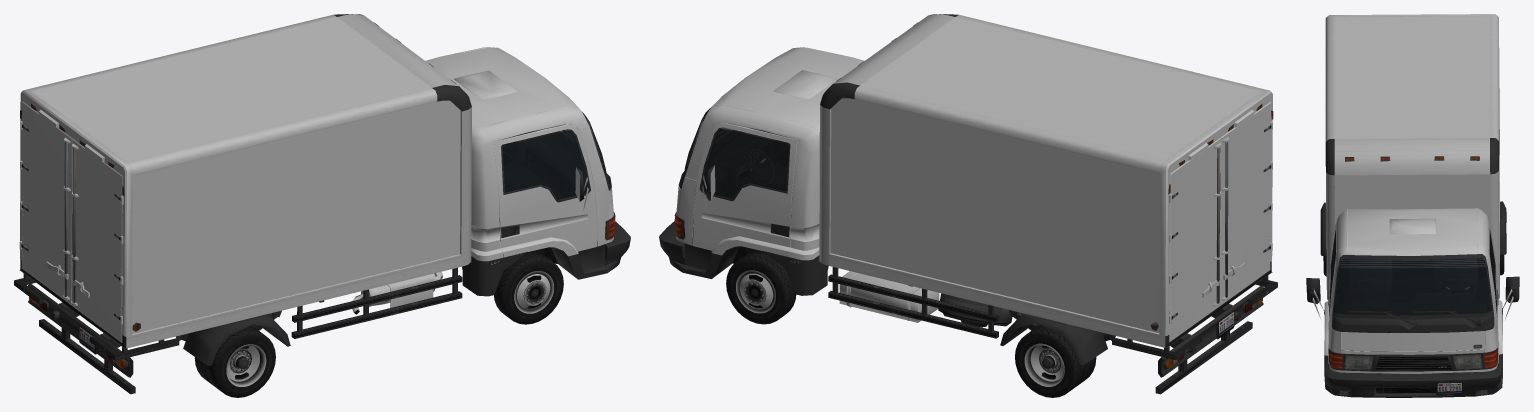
The model's file is generico-caminhao.glb.
3 views of the same model, side by side, from view 1: azimuth 30°, elevation 25°; view 2: azimuth 150°, elevation 25°; view 3: azimuth 270°, elevation 25° (orthographic). The views are drawn at different scales.
Parts seen in each view (by area): view 1: LCT300095_Body_lct3000_Bodymat_0, LCT300095_Bottom_UCB_BOTTOM_0, LCT300095_Reardoor_Left_lct3000_Bodymat_0, LCT300095_Reardoor_Right_lct3000_Bodymat_0, LCT300095_Glass_Passenger_UCB_Lights_and_Glass_Transperent_0, LCT300095_Interior_UCB_Interiors_2_0, LCT300095_WheelStock_FR_RB1c_Tire_1k_0, LCT300095_WheelStock_RR_RB1c_Tire_1k_0, LCT300095_Bumper_rear_UCB_BOTTOM_0, LCT300095_Reardoor_Left_Inner_UCB_BOTTOM_0, LCT300095_Reardoor_Right_Inner_UCB_BOTTOM_0, LCT300095_Bumper_front_UCB_BOTTOM_0; view 2: LCT300095_Body_lct3000_Bodymat_0, LCT300095_Bottom_UCB_BOTTOM_0, LCT300095_Reardoor_Right_lct3000_Bodymat_0, LCT300095_Reardoor_Left_lct3000_Bodymat_0, LCT300095_Glass_Driver_UCB_Lights_and_Glass_Transperent_0, LCT300095_WheelStock_FL_RB1c_Tire_1k_0, LCT300095_WheelStock_RL_RB1c_Tire_1k_0, LCT300095_Interior_UCB_Interiors_2_0, LCT300095_Bumper_rear_UCB_BOTTOM_0, LCT300095_Reardoor_Right_Inner_UCB_BOTTOM_0, LCT300095_Reardoor_Left_Inner_UCB_BOTTOM_0, LCT300095_Bumper_front_UCB_BOTTOM_0; view 3: LCT300095_Body_lct3000_Bodymat_0, LCT300095_Bottom_UCB_BOTTOM_0, LCT300095_Windshield_UCB_Lights_and_Glass_Transperent_0, LCT300095_Interior_UCB_Interiors_2_0, LCT300095_Bumper_front_UCB_BOTTOM_0, LCT300095_Headlights_Glass_UCB_Lights_and_Glass_Transperent_, LCT300095_Headlights_UCB_Lights_and_Glass_0, LCT300095_Numberplate_front_Numberplates_Misk_U_0, LCT300095_Glass_Driver_UCB_Lights_and_Glass_Transperent_0, LCT300095_Glass_Passenger_UCB_Lights_and_Glass_Transperent_0.
Boxes of the visible parts, x1=… form: LCT300095_Body_lct3000_Bodymat_0: x1=19, y1=17, x2=613, y2=336; LCT300095_Bottom_UCB_BOTTOM_0: x1=14, y1=14, x2=615, y2=394; LCT300095_Reardoor_Left_lct3000_Bodymat_0: x1=21, y1=101, x2=72, y2=305; LCT300095_Reardoor_Right_lct3000_Bodymat_0: x1=72, y1=139, x2=122, y2=342; LCT300095_Glass_Passenger_UCB_Lights_and_Glass_Transperent_0: x1=502, y1=131, x2=589, y2=200; LCT300095_Interior_UCB_Interiors_2_0: x1=501, y1=131, x2=604, y2=201; LCT300095_WheelStock_FR_RB1c_Tire_1k_0: x1=494, y1=252, x2=563, y2=324; LCT300095_WheelStock_RR_RB1c_Tire_1k_0: x1=194, y1=325, x2=275, y2=397; LCT300095_Bumper_rear_UCB_BOTTOM_0: x1=28, y1=284, x2=133, y2=377; LCT300095_Reardoor_Left_Inner_UCB_BOTTOM_0: x1=21, y1=124, x2=70, y2=299; LCT300095_Reardoor_Right_Inner_UCB_BOTTOM_0: x1=71, y1=143, x2=122, y2=320; LCT300095_Bumper_front_UCB_BOTTOM_0: x1=605, y1=222, x2=630, y2=272; LCT300095_Body_lct3000_Bodymat_0: x1=676, y1=17, x2=1272, y2=335; LCT300095_Bottom_UCB_BOTTOM_0: x1=675, y1=14, x2=1277, y2=394; LCT300095_Reardoor_Right_lct3000_Bodymat_0: x1=1220, y1=102, x2=1270, y2=305; LCT300095_Reardoor_Left_lct3000_Bodymat_0: x1=1169, y1=138, x2=1220, y2=342; LCT300095_Glass_Driver_UCB_Lights_and_Glass_Transperent_0: x1=701, y1=129, x2=788, y2=198; LCT300095_WheelStock_FL_RB1c_Tire_1k_0: x1=726, y1=251, x2=796, y2=324; LCT300095_WheelStock_RL_RB1c_Tire_1k_0: x1=1015, y1=324, x2=1096, y2=397; LCT300095_Interior_UCB_Interiors_2_0: x1=685, y1=130, x2=789, y2=200; LCT300095_Bumper_rear_UCB_BOTTOM_0: x1=1158, y1=286, x2=1263, y2=377; LCT300095_Reardoor_Right_Inner_UCB_BOTTOM_0: x1=1221, y1=124, x2=1271, y2=300; LCT300095_Reardoor_Left_Inner_UCB_BOTTOM_0: x1=1169, y1=143, x2=1221, y2=319; LCT300095_Bumper_front_UCB_BOTTOM_0: x1=659, y1=221, x2=684, y2=272; LCT300095_Body_lct3000_Bodymat_0: x1=1324, y1=16, x2=1502, y2=373; LCT300095_Bottom_UCB_BOTTOM_0: x1=1306, y1=14, x2=1519, y2=386; LCT300095_Windshield_UCB_Lights_and_Glass_Transperent_0: x1=1334, y1=258, x2=1492, y2=315; LCT300095_Interior_UCB_Interiors_2_0: x1=1330, y1=230, x2=1496, y2=332; LCT300095_Bumper_front_UCB_BOTTOM_0: x1=1324, y1=365, x2=1502, y2=397; LCT300095_Headlights_Glass_UCB_Lights_and_Glass_Transperent_: x1=1329, y1=349, x2=1497, y2=370; LCT300095_Headlights_UCB_Lights_and_Glass_0: x1=1345, y1=354, x2=1482, y2=369; LCT300095_Numberplate_front_Numberplates_Misk_U_0: x1=1437, y1=383, x2=1461, y2=393; LCT300095_Glass_Driver_UCB_Lights_and_Glass_Transperent_0: x1=1490, y1=231, x2=1496, y2=312; LCT300095_Glass_Passenger_UCB_Lights_and_Glass_Transperent_0: x1=1329, y1=232, x2=1335, y2=311.
Size of the model in its own units: 6.02 by 2.85 by 2.6.
Materials: 8 (7 with a texture image).
